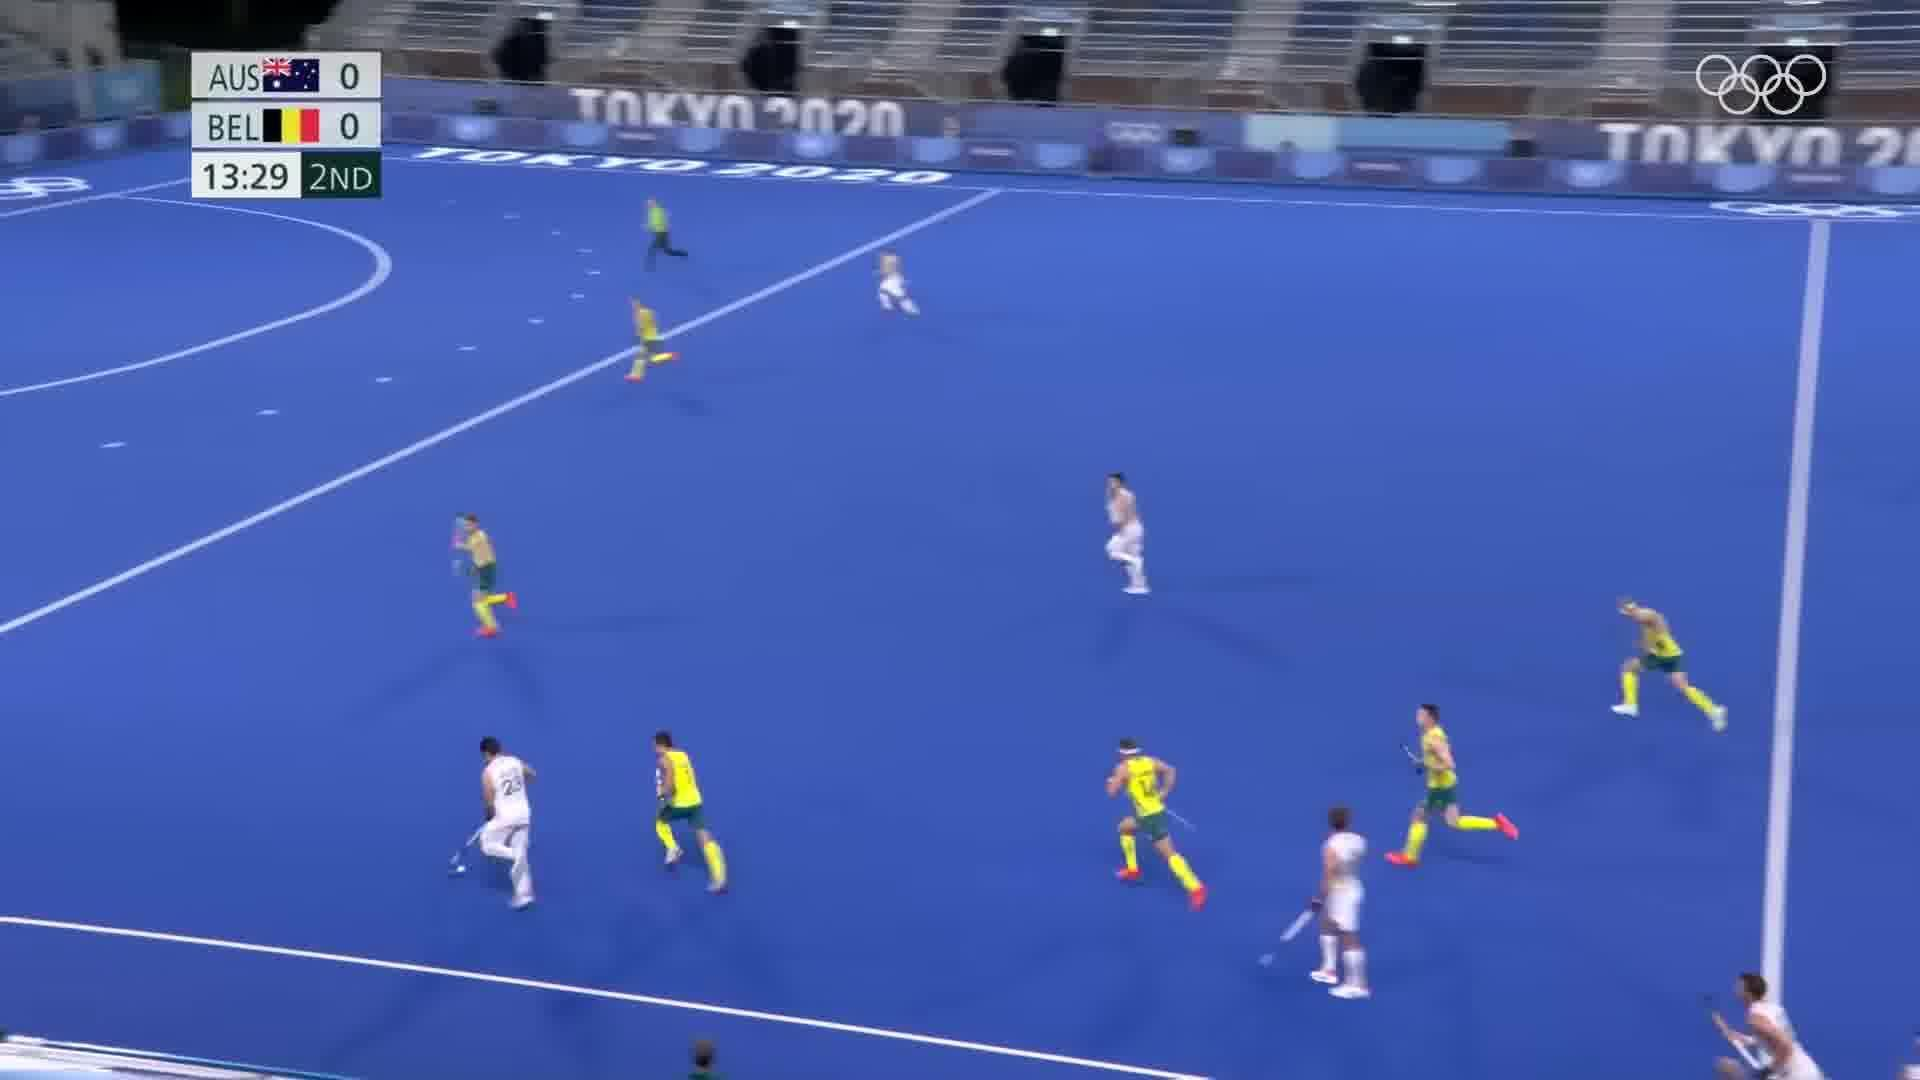ball: (448, 861, 473, 880)
